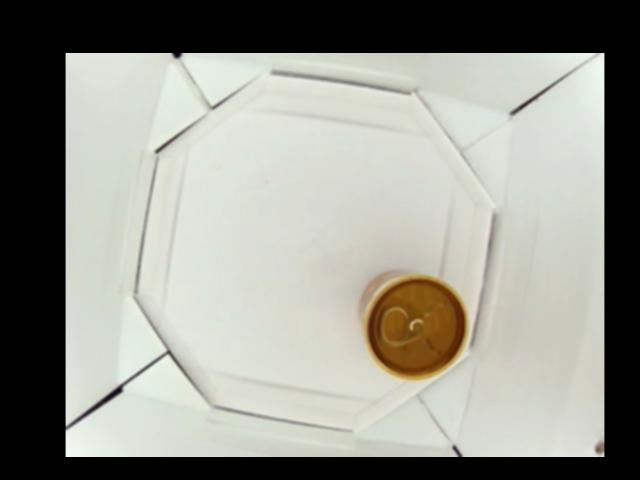Bottle: (359, 270, 467, 380)
